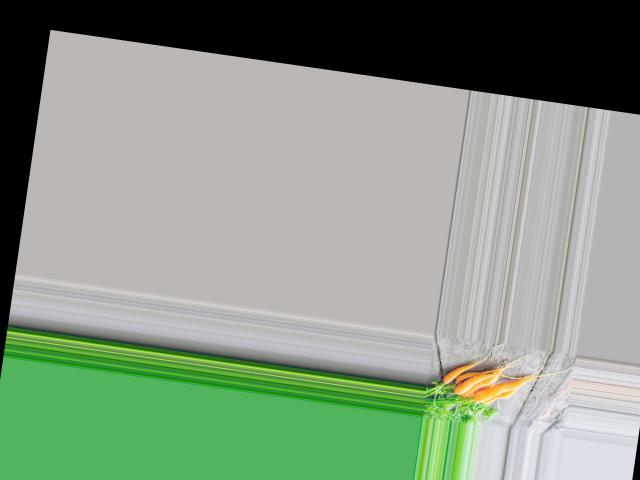carrot: (466, 370, 527, 410)
